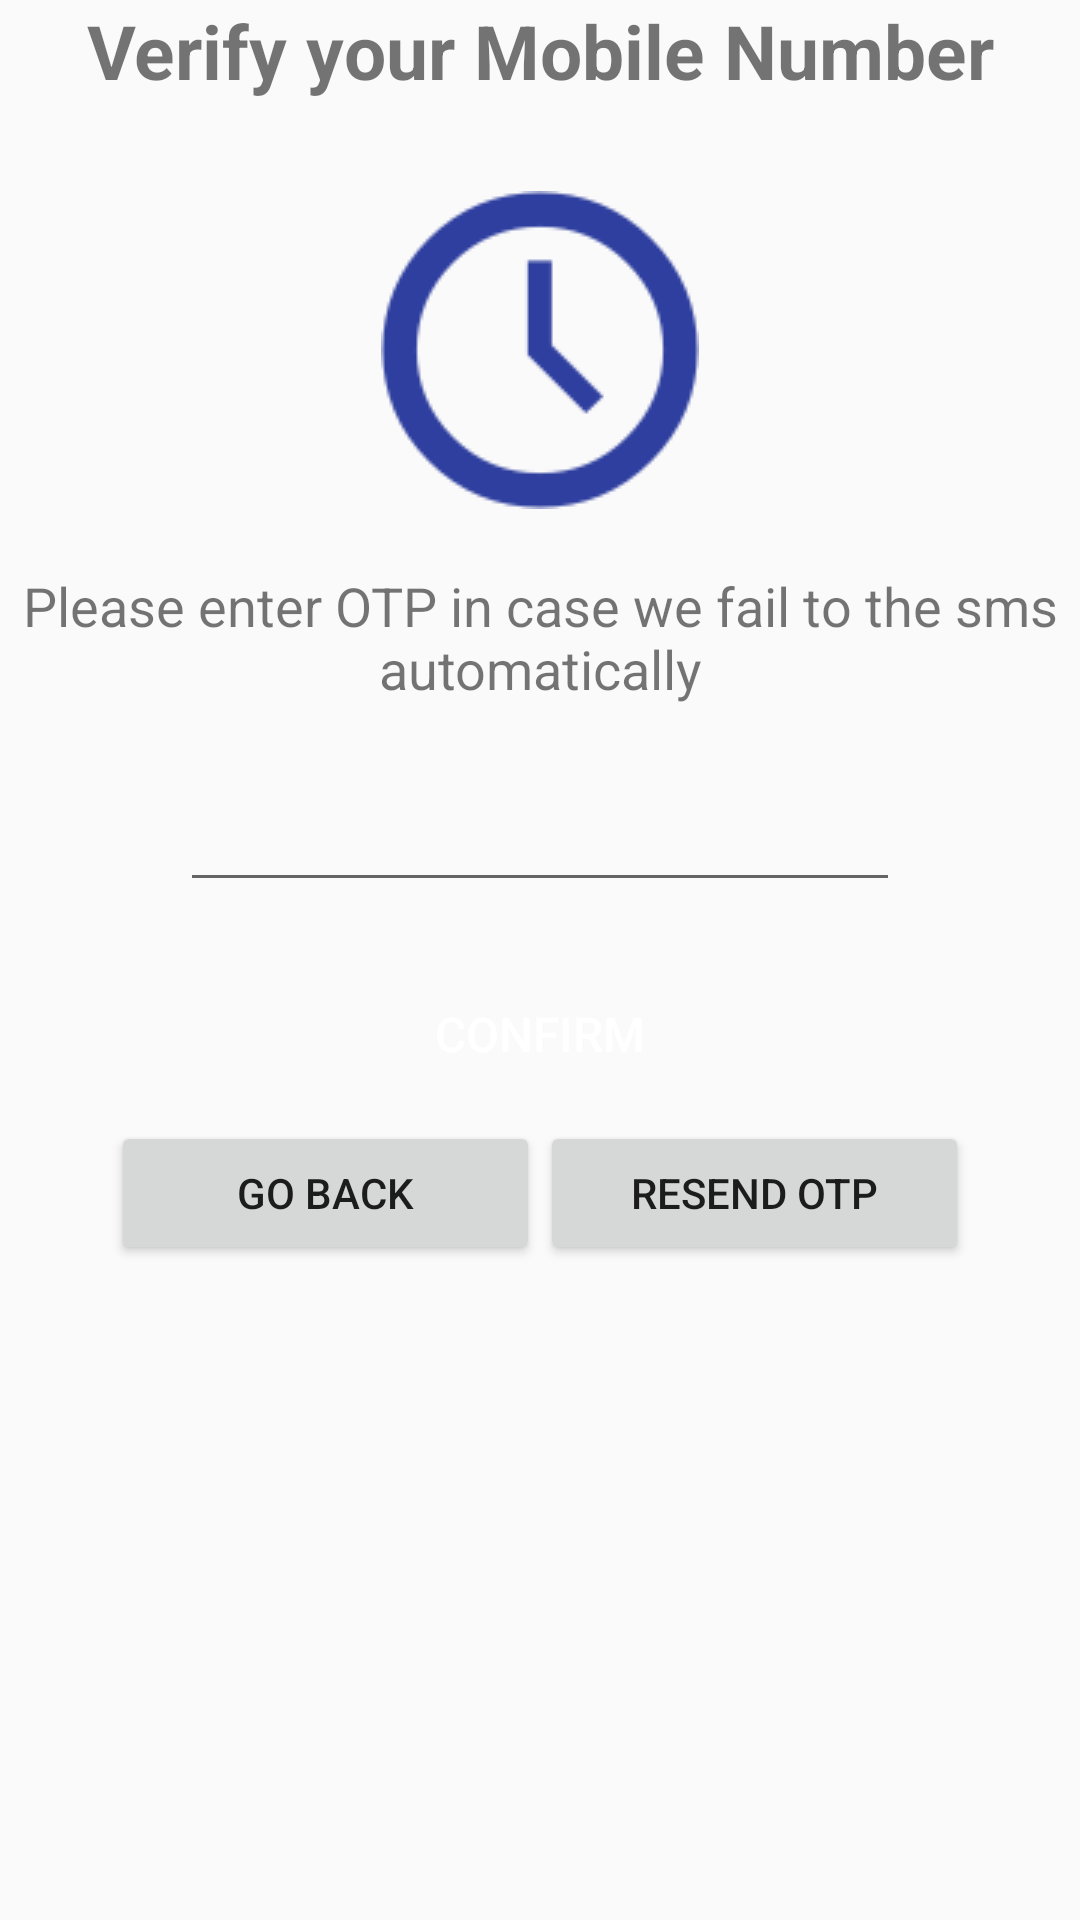

Icon click points for this 1080w x 1920h phone screenshot, format point (x, y):
otp clock: point (540, 350)
